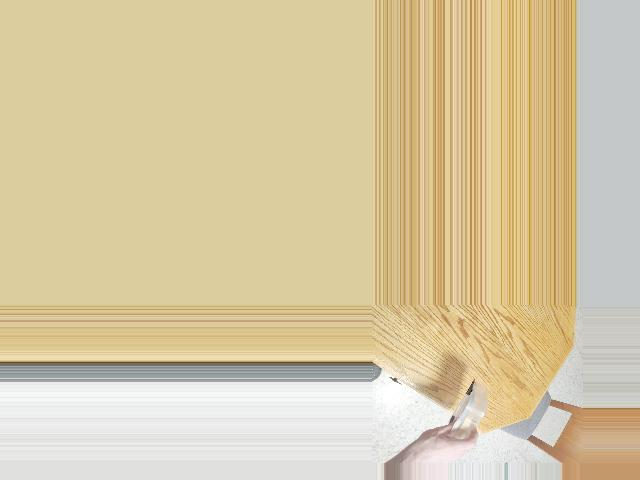cheese: (449, 381, 488, 442)
